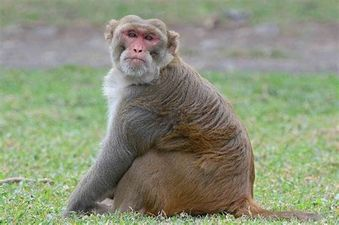monkey: (68, 10, 336, 225)
